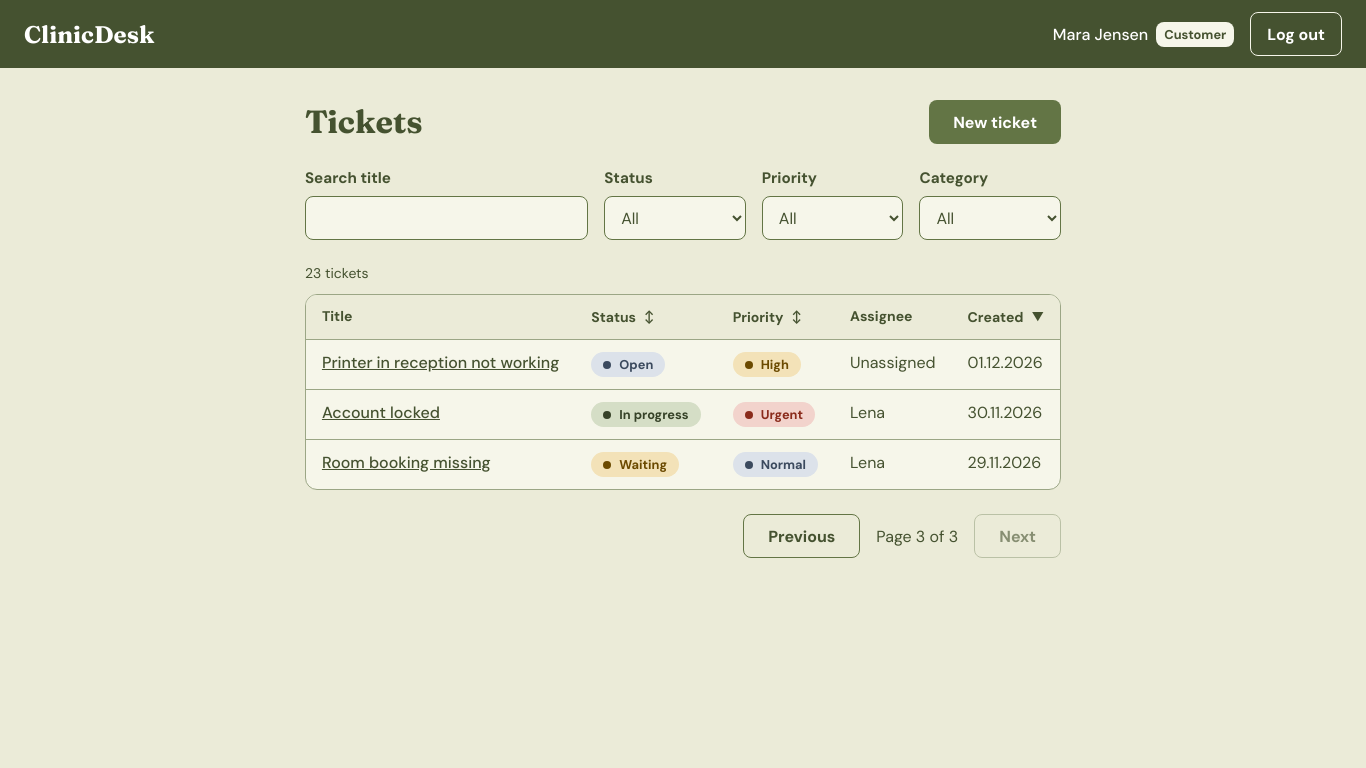
Test: TicketsPage › reads the page from ?page=, disables Next on the last page, and goes back with Previous
This screenshot has width=1366, height=768.
Expected: the text "Page 3 of 3" is shown, [876,526,958,546]
Expected: the button "Next" is disabled, [974,514,1061,558]
Click the button "Previous": (802, 536) [743,514,860,558]
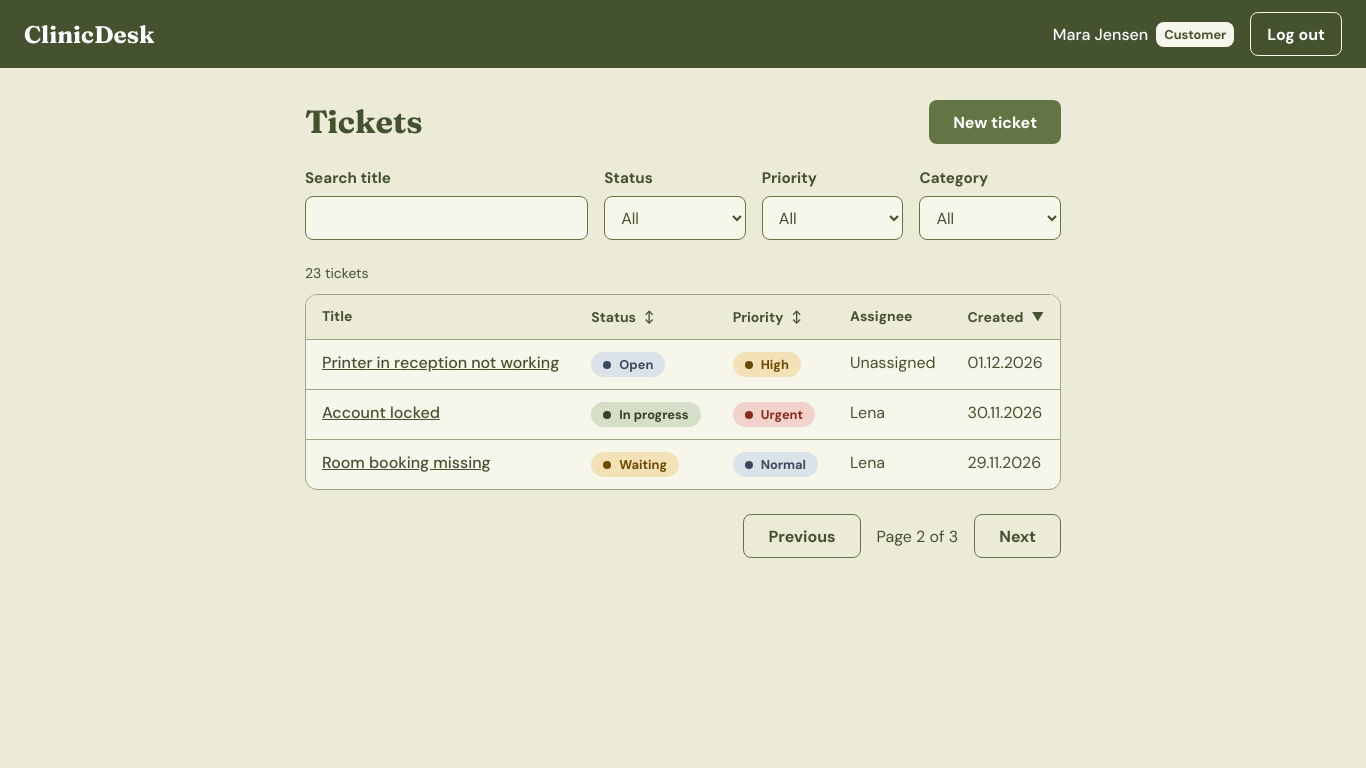
Expected: the text "Page 2 of 3" is shown, [876,526,958,546]
